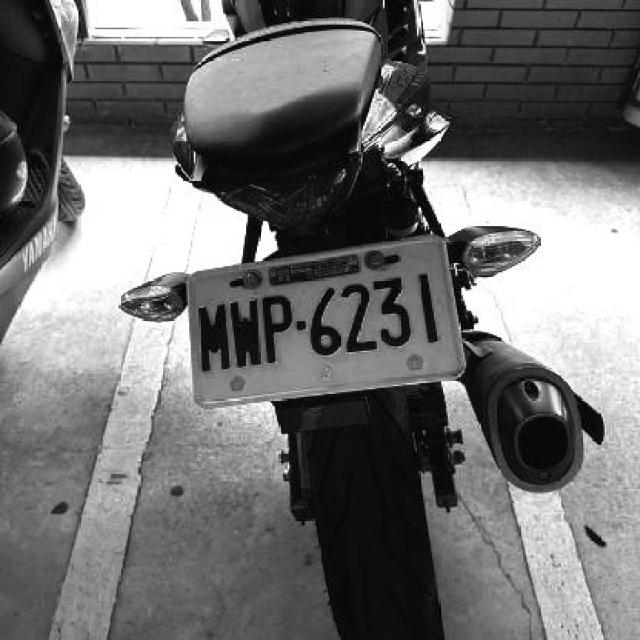-: (296, 320, 306, 331)
1: (418, 272, 437, 342)
2: (340, 280, 374, 352)
3: (374, 278, 409, 348)
6: (303, 283, 340, 355)
M: (194, 302, 231, 372)
P: (258, 292, 296, 366)
W: (229, 297, 260, 368)
